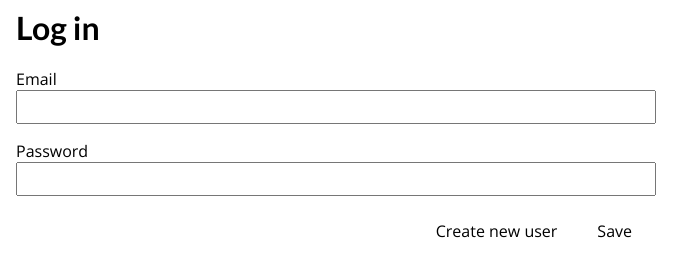
Test: Auth component › submits form
The width and height of the screenshot is (673, 267).
// Simulate user input
Type "test@example.com" into the field labelled "Email".
click(336, 107); type("test@example.com")  # box [16, 90, 656, 124]
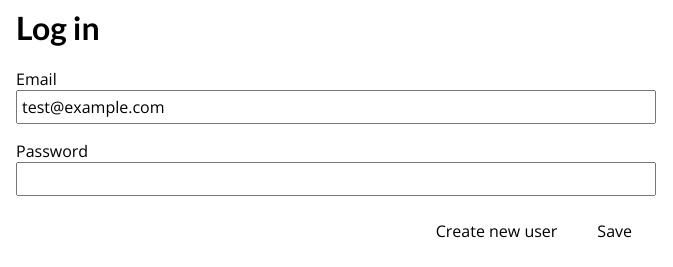
Type "test123" into the password field labelled "Password".
click(336, 179); type("test123")  # box [16, 162, 656, 196]
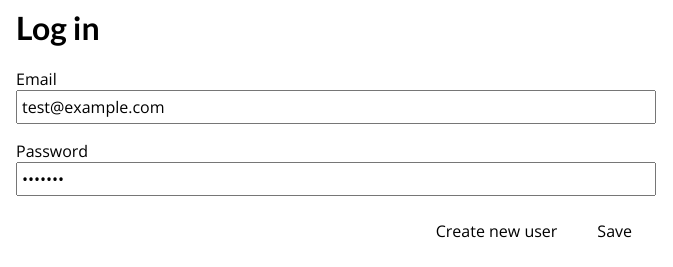
// Submit the form
Click the button "Save".
click(615, 231)  # box [573, 212, 656, 250]
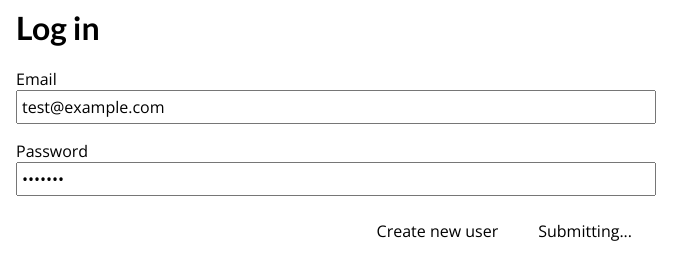
Result: the button "Submitting..." is shown at [514, 212, 656, 250]
